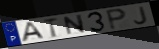3: (85, 11, 106, 33)
A: (21, 21, 47, 43)
J: (133, 5, 149, 26)
N: (63, 13, 88, 36)
P: (105, 8, 128, 31)
T: (42, 16, 59, 39)
